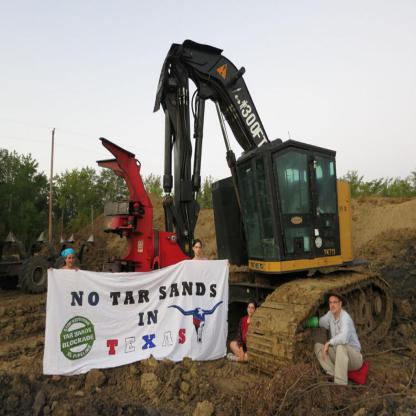face: (330, 297, 341, 313), (66, 253, 75, 267), (248, 305, 256, 316), (195, 244, 202, 255)
